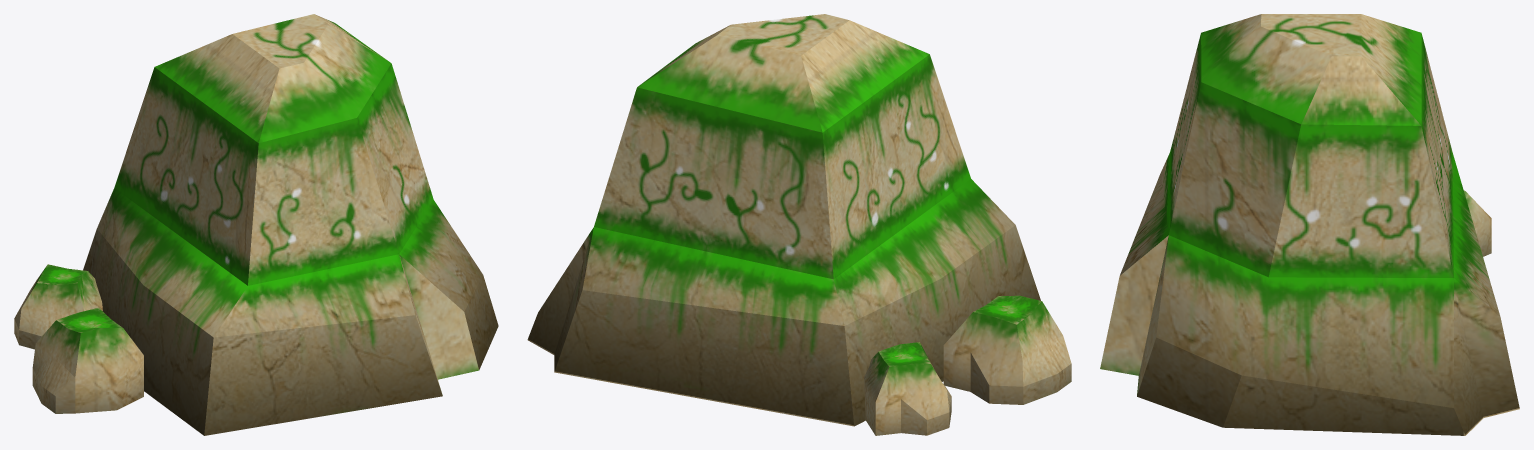
Rendered from ms_boulder01.fbx.
3 renders of one model, left to right at view 1: azimuth 30°, elevation 25°; view 2: azimuth 150°, elevation 25°; view 3: azimuth 270°, elevation 25°, orthographic. The views are drawn at different scales.
Visible parts, largest first — view 1: polySurface1; view 2: polySurface1; view 3: polySurface1.
Part boxes in pixels (x1=…): polySurface1: x1=14, y1=14, x2=498, y2=435; polySurface1: x1=527, y1=14, x2=1071, y2=435; polySurface1: x1=1100, y1=14, x2=1519, y2=435.
Bounding box in the file's own units: 536 × 390 × 422.
